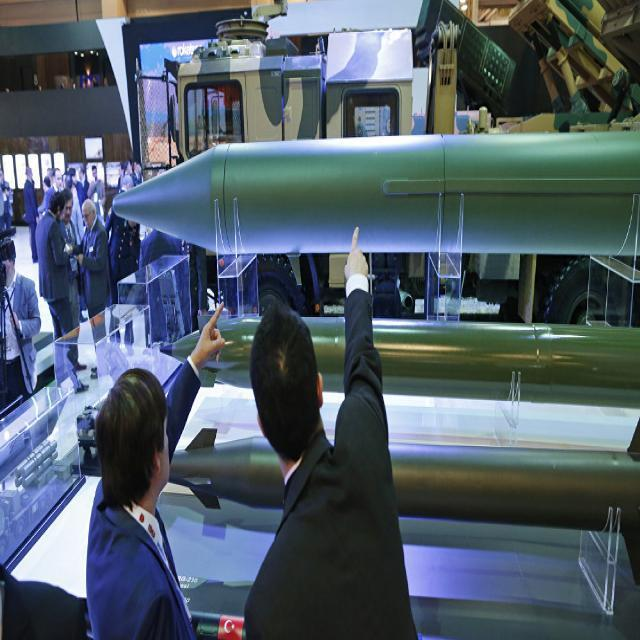Missile: (98, 131, 640, 263)
